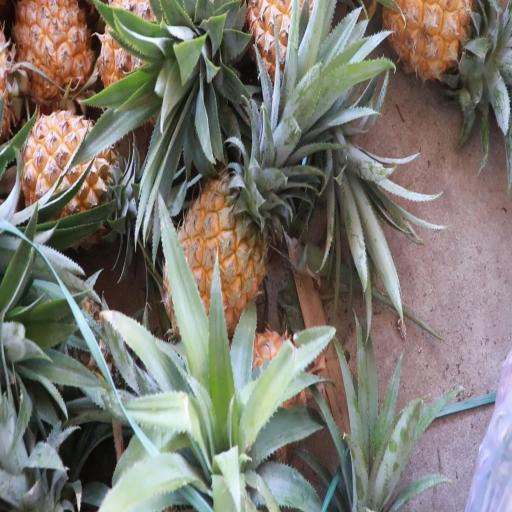Pineapple - v8 v1: (160, 150, 275, 356), (22, 106, 128, 257), (9, 0, 101, 115), (380, 0, 486, 89), (243, 0, 337, 96)
